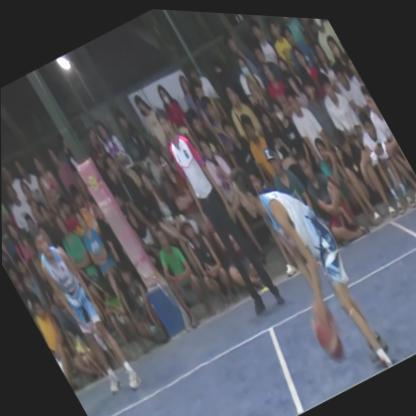basketball: (304, 304, 355, 370)
